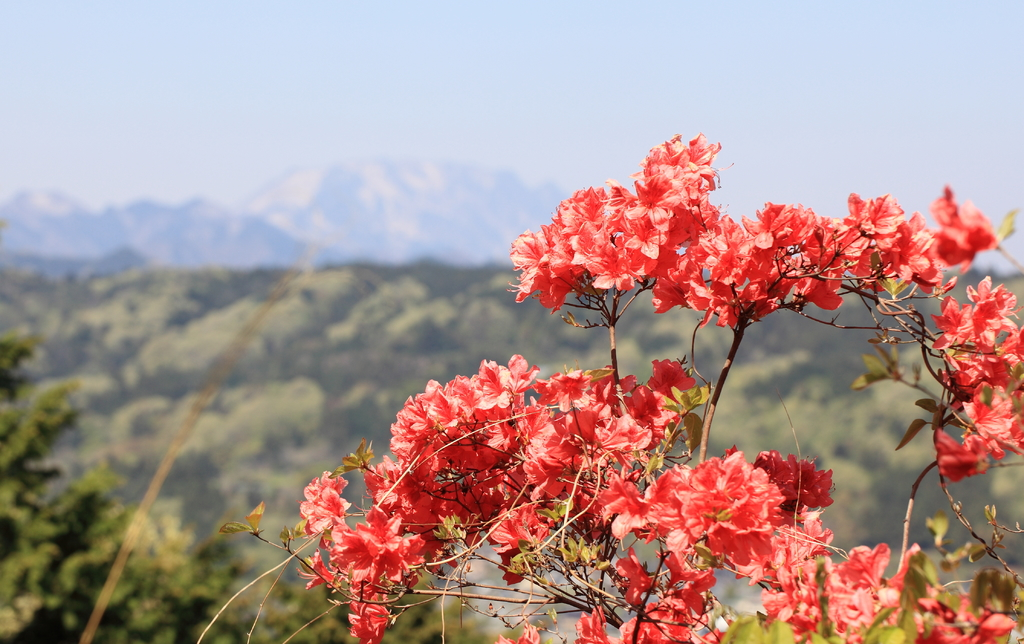Tree: (0, 142, 551, 643)
